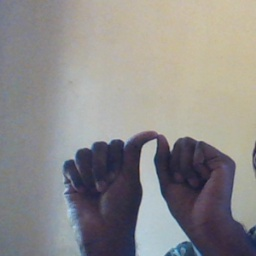A: (60, 129, 243, 239)
